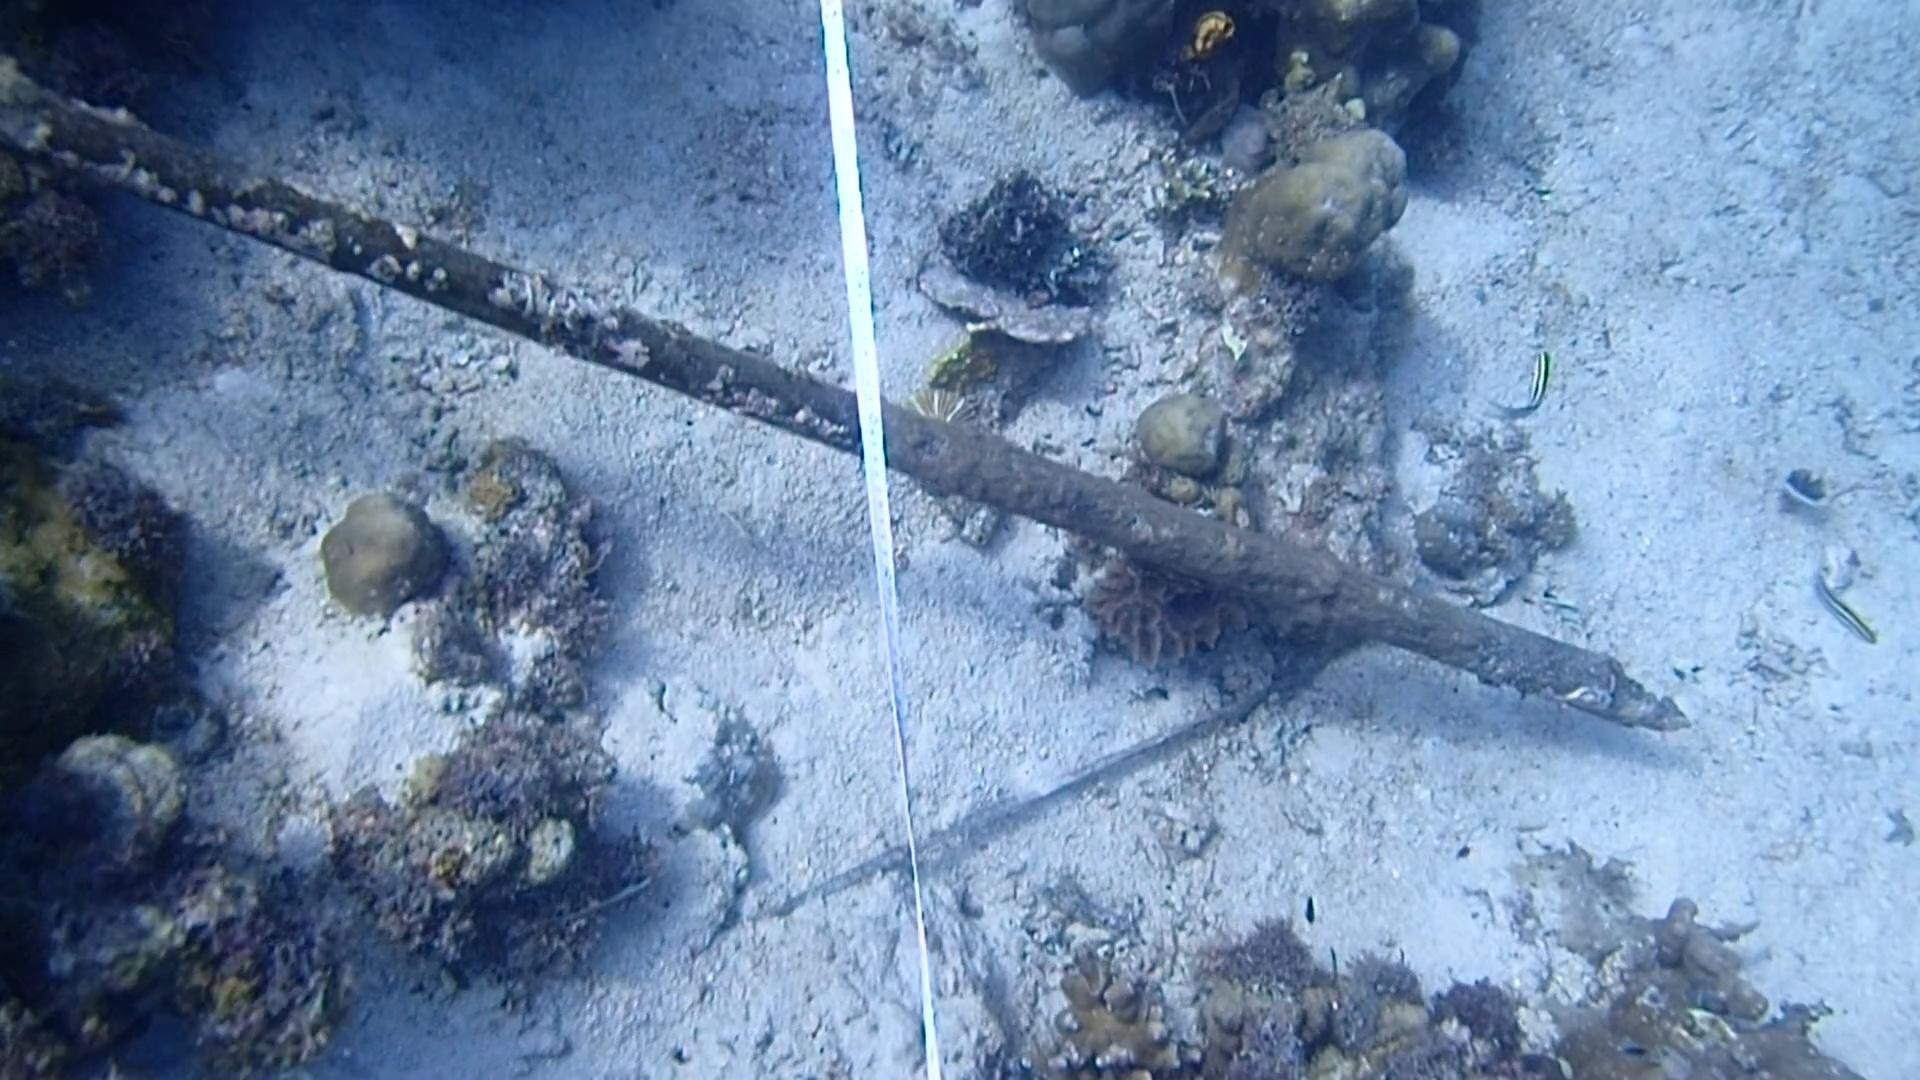Striped Fish: (1797, 556, 1880, 658), (1481, 338, 1565, 427)
